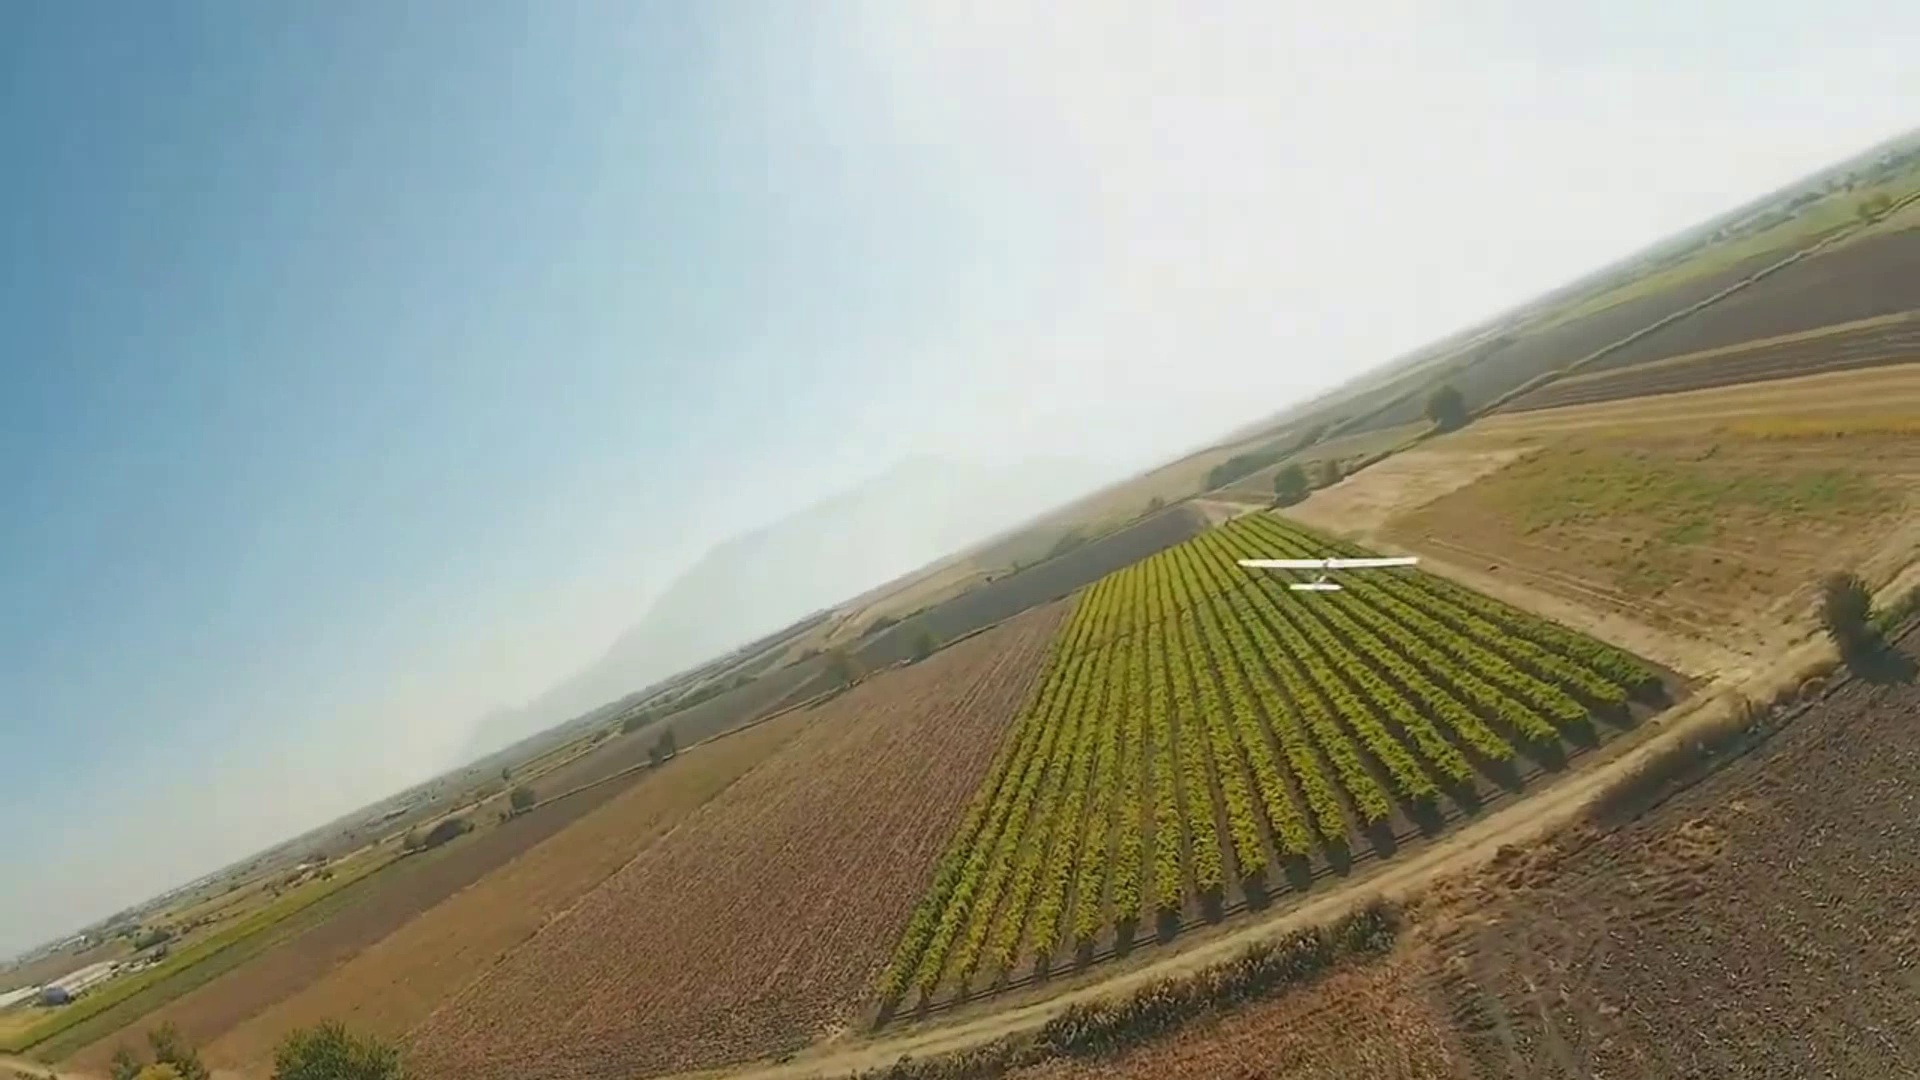airplane: (22, 135, 1920, 1035)
